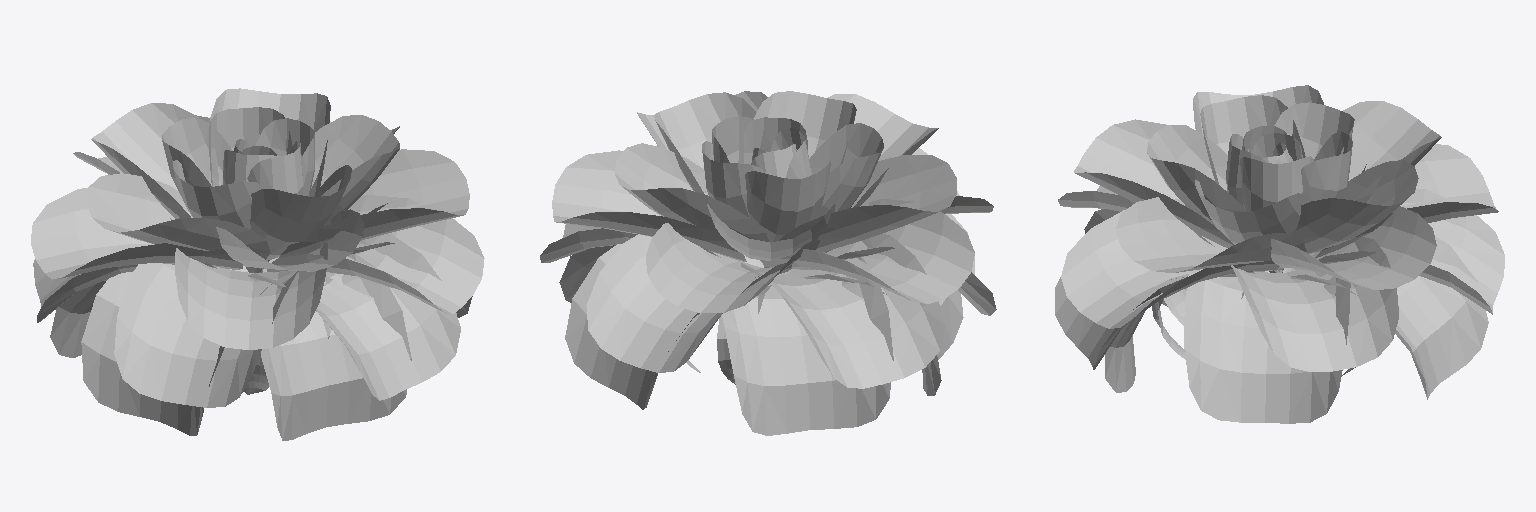
Rendered from FlowerTopModel_03_seq_0053.obj.
3 views of the same model, side by side, from view 1: azimuth 30°, elevation 25°; view 2: azimuth 150°, elevation 25°; view 3: azimuth 270°, elevation 25° (orthographic).
Visible parts, largest first — view 1: FlowerTopModel_03; view 2: FlowerTopModel_03; view 3: FlowerTopModel_03.
Part boxes in pixels (left/top/right/bottom): FlowerTopModel_03: left=31, top=88, right=484, bottom=440; FlowerTopModel_03: left=540, top=91, right=996, bottom=435; FlowerTopModel_03: left=1055, top=85, right=1504, bottom=423.
Bounding box in the file's own units: 938 × 535 × 919.